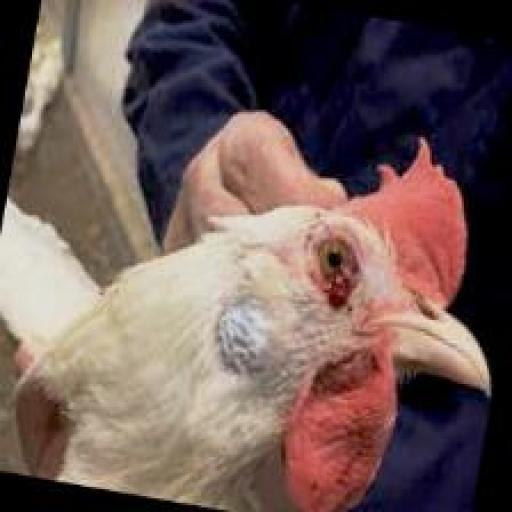disease: (298, 230, 380, 316)
